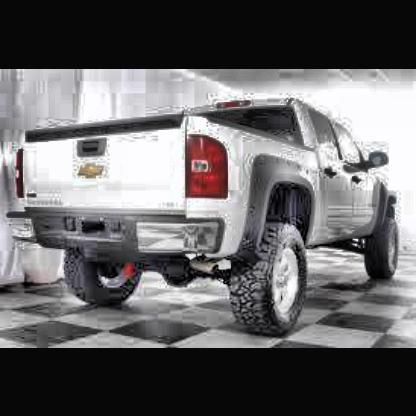Chevrolet Silverado 1500 Hybrid Crew Cab 2012: (14, 98, 405, 340)
